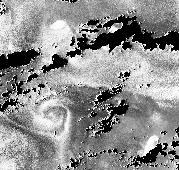CE: (29, 95, 75, 138)
